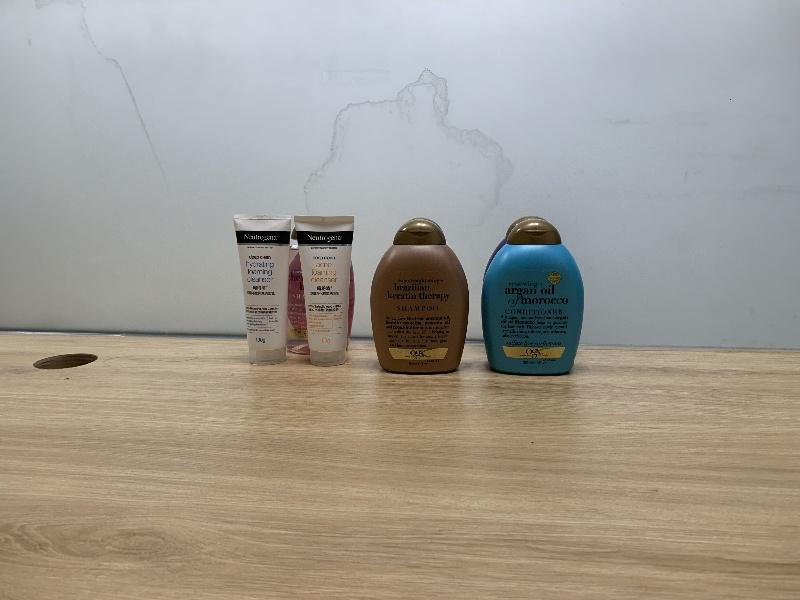AcneFoamingCleanser: (293, 215, 355, 368)
ArganOilOfMorocco_Conditioner: (481, 219, 584, 375)
BrazilianKeratinTherapy_Shampoo: (370, 219, 470, 373)
HydratingFoamingCleanser: (232, 214, 291, 364)
